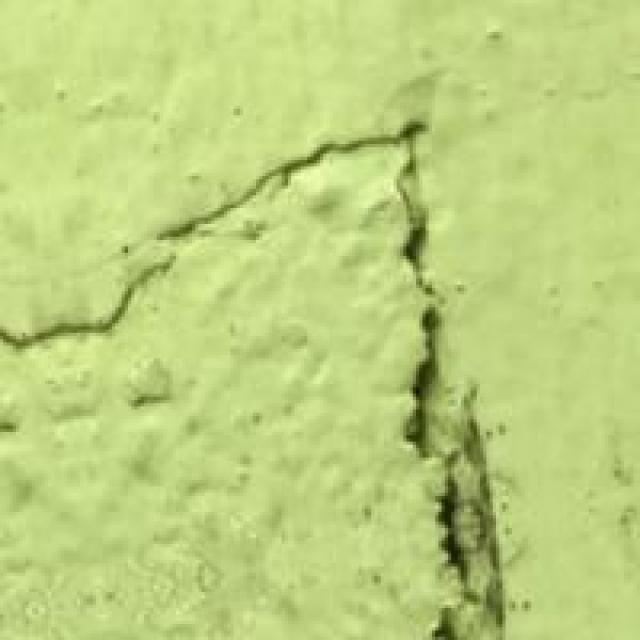Crack: (21, 104, 568, 635)
